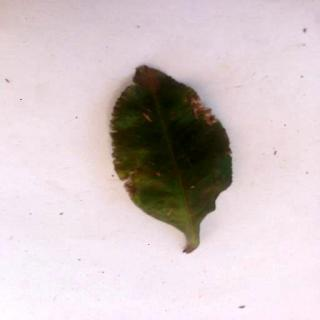Brown Blight: (111, 67, 233, 253)
